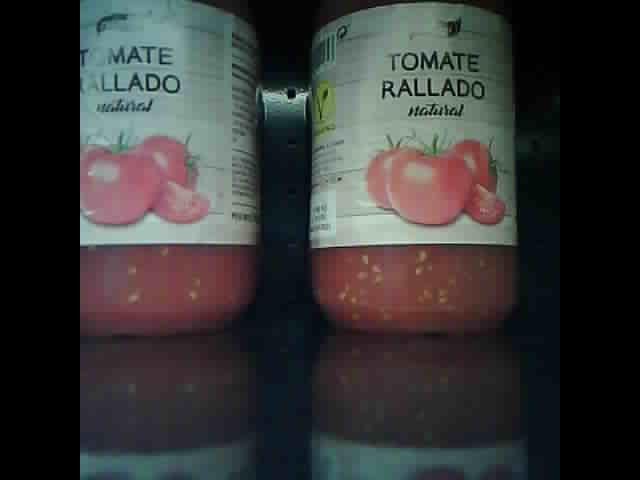tomate: (311, 7, 519, 334), (82, 6, 260, 336)
